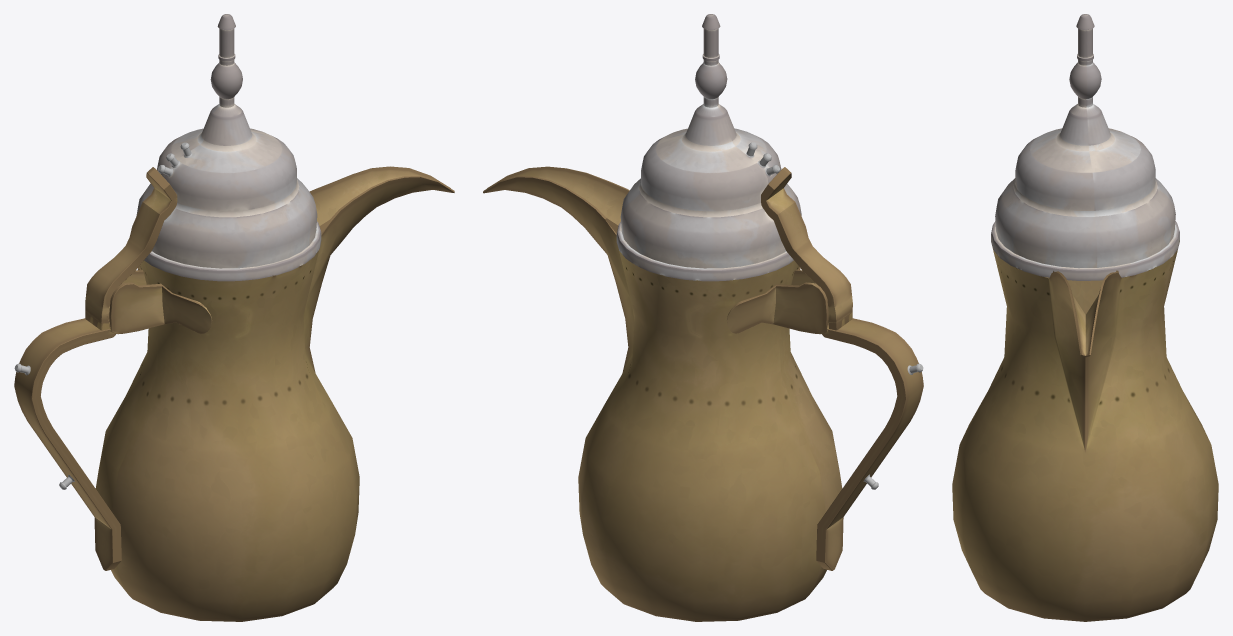
File: DllahWithNewLed V2.fbx
3 views of the same model, side by side, from view 1: azimuth 30°, elevation 25°; view 2: azimuth 150°, elevation 25°; view 3: azimuth 270°, elevation 25° (orthographic).
Visible parts, largest first — view 1: pCylinder6 ر2; view 2: pCylinder6 ر2; view 3: pCylinder6 ر2.
Part boxes in pixels (left/top/right/bottom): pCylinder6 ر2: left=14, top=14, right=454, bottom=621; pCylinder6 ر2: left=483, top=14, right=923, bottom=621; pCylinder6 ر2: left=952, top=14, right=1218, bottom=621.
Bounding box in the file's own units: 65.67 × 80.68 × 34.7.
